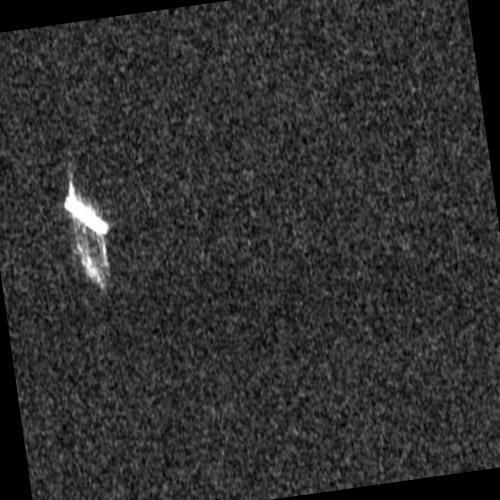ship: (64, 192, 108, 237)
